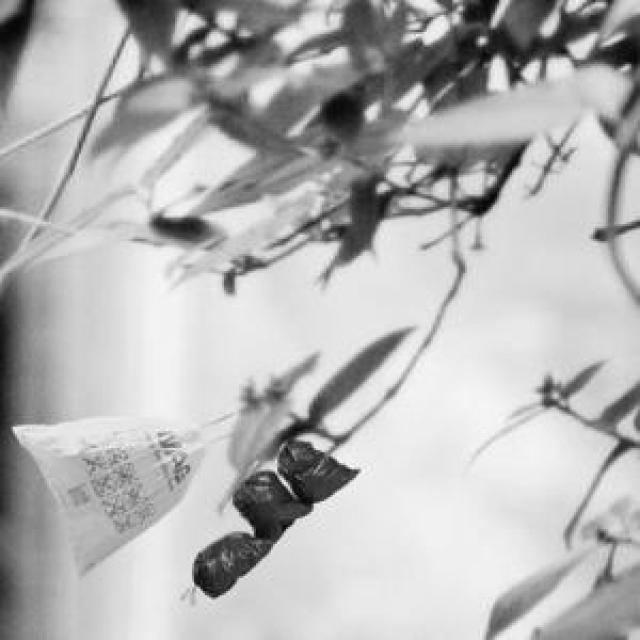miscellaneous trash: (190, 437, 356, 593)
